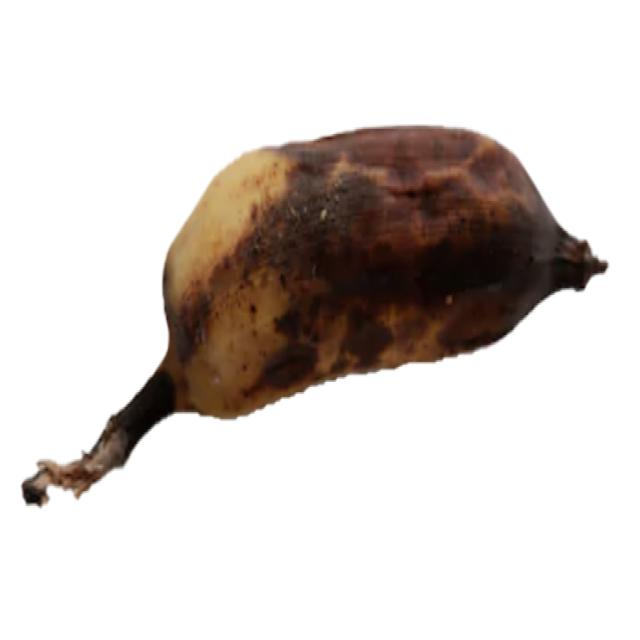rotten-banana: (20, 120, 608, 508)
